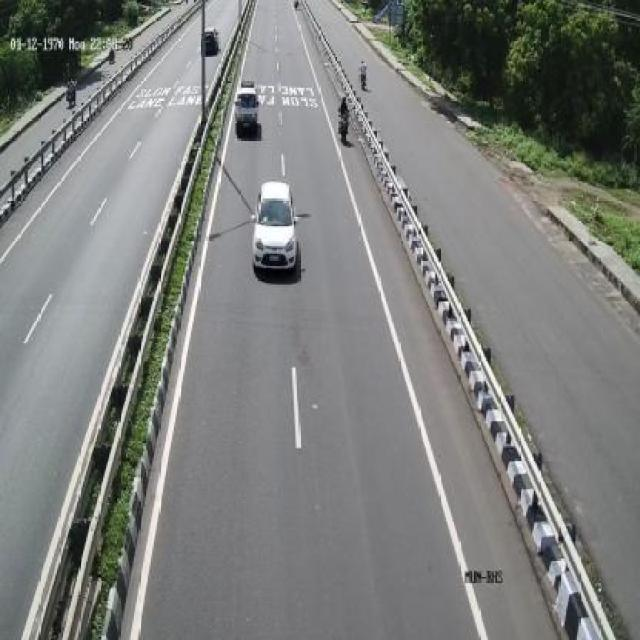car: (252, 176, 302, 282), (235, 78, 263, 144)
